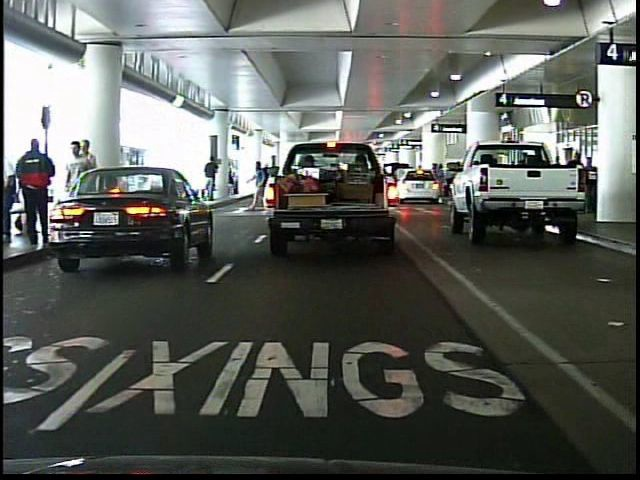person: (16, 135, 55, 248), (66, 138, 90, 237), (81, 133, 103, 232), (249, 157, 266, 198)
